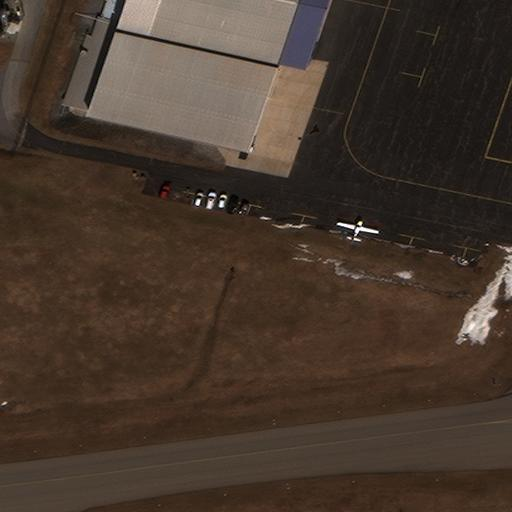Small Civil Transport: (336, 220, 378, 242)
